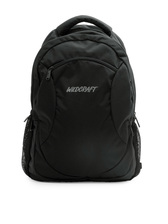bag: (18, 15, 147, 185)
